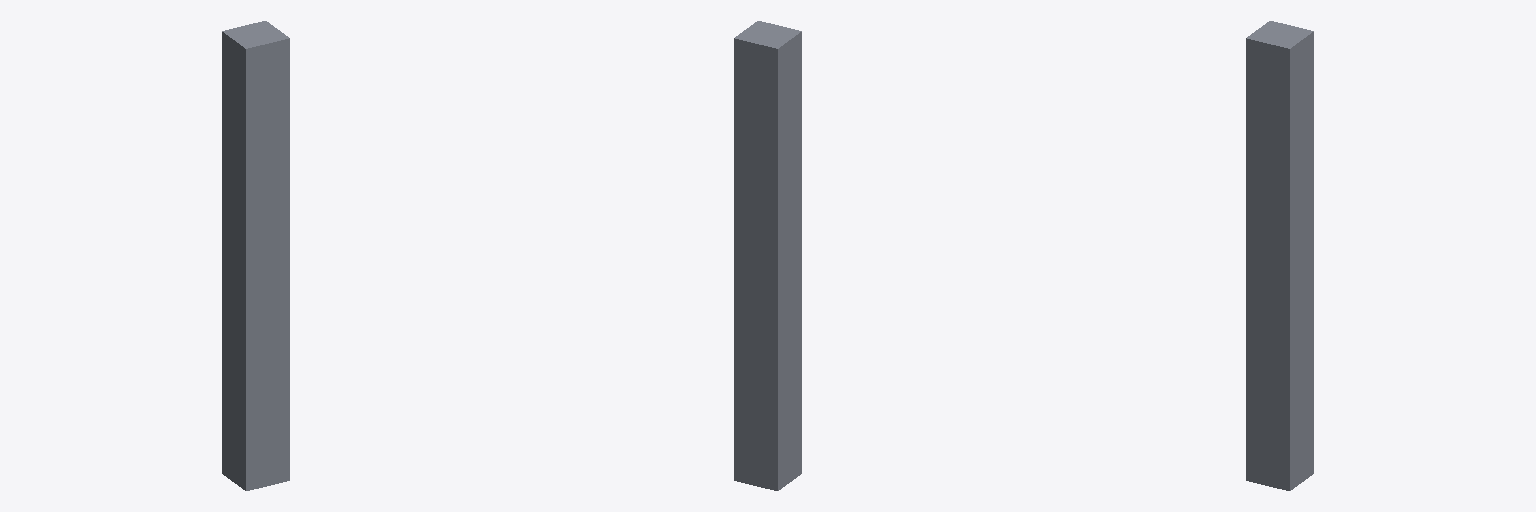
robot.urdf — artmanip_knife_000:
<?xml version='1.0' encoding='utf-8'?>
<robot name="artmanip_knife_000"><link name="link_0"><inertial><mass value="0.03120442248760341" /><inertia ixx="5.087269114162368e-05" iyy="5.091904866742944e-05" izz="1.0431825708235196e-06" ixy="0" ixz="0" iyz="0" /></inertial><visual><geometry><box size="0.014474019696668063 0.01384449188363968 0.13918324840982707" /></geometry><material name="link_0_color"><color rgba=".58 .60 .64 1" /></material></visual><collision><geometry><box size="0.014474019696668063 0.01384449188363968 0.13918324840982707" /></geometry></collision></link><link name="link_1"><inertial><mass value="0.007017984265431244" /><inertia ixx="5.335498716770304e-07" iyy="5.848320221192704e-07" izz="6.568425398161407e-08" ixy="0" ixz="0" iyz="0" /></inertial><visual><geometry><mesh filename="slider-shoulder.obj" scale="1 1.16966 1" /></geometry><material name="link_1_color"><color rgba=".12 .13 .15 1" /></material></visual><collision><geometry><mesh filename="slider-shoulder.obj" scale="1 1.16966 1" /></geometry></collision></link><joint name="slider" type="prismatic"><parent link="link_0" /><child link="link_1" /><origin xyz="-0.0006077060870347433 0.00867674200817765 0.011937910409339537" /><axis xyz="0 0 1" /><limit lower="-0.03267458688196273" upper="0.017325413118037272" effort="100" velocity="1" /><dynamics damping="1000" friction="0.001" /></joint></robot>

--- What the picture shows (computed from the rendered views, not written in the file) ---
3 views of the same robot in one strip: view 1: azimuth 30°, elevation 25°; view 2: azimuth 150°, elevation 25°; view 3: azimuth 330°, elevation 25° (orthographic).
Model artmanip_knife_000 with 2 links and 1 joints (1 prismatic), rooted at link_0, posed all joints at 0.
Visible links, largest first — view 1: link_0; view 2: link_0; view 3: link_0.
Link boxes in pixels (left/top/right/bottom): link_0: left=222, top=21, right=289, bottom=490; link_0: left=734, top=21, right=801, bottom=490; link_0: left=1246, top=21, right=1313, bottom=490.
Bounding box of the posed robot: 0.0145 × 0.0138 × 0.1392 m (x, y, z).
0 mesh visuals loaded from 1 distinct referenced files (none loaded); not drawn: 1 (reference not matched to a file when rendering).
